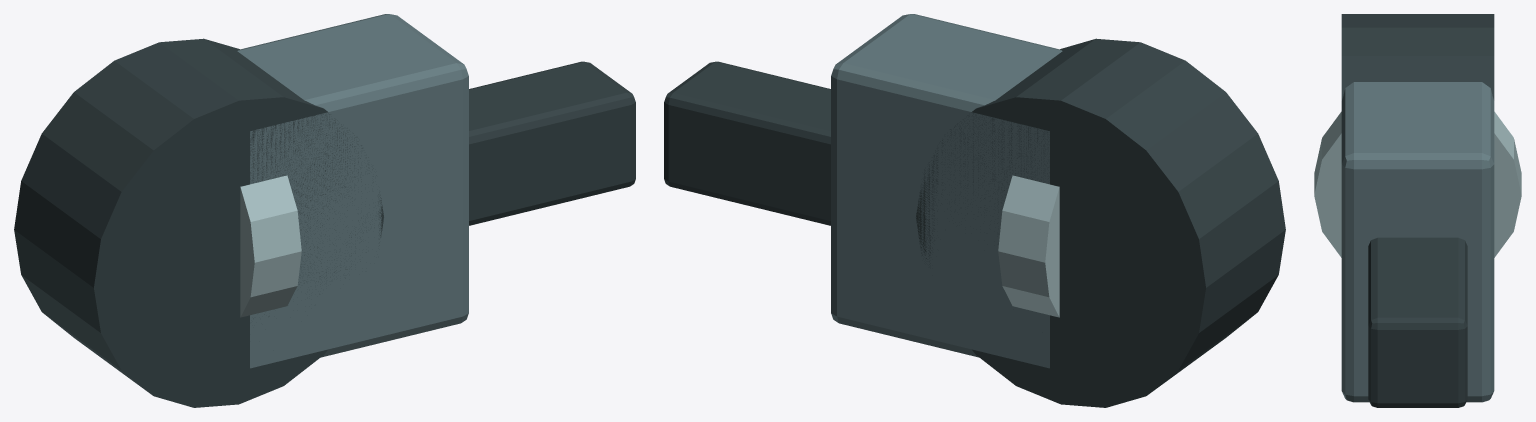
The model's file is turret.glb.
The picture shows the model from 3 angles, left to right: view 1: azimuth 30°, elevation 25°; view 2: azimuth 150°, elevation 25°; view 3: azimuth 270°, elevation 25°; orthographic projection. The views are drawn at different scales.
Visible parts, largest first — view 1: slew_base, shoulder_housing, link_beam, slew_bearing; view 2: slew_base, shoulder_housing, link_beam, slew_bearing; view 3: shoulder_housing, link_beam, slew_base, slew_bearing.
Part boxes in pixels (<box>): slew_base: <box>14,38,383,407</box>; shoulder_housing: <box>237,14,468,368</box>; link_beam: <box>469,61,635,225</box>; slew_bearing: <box>240,175,301,317</box>; slew_base: <box>916,38,1285,407</box>; shoulder_housing: <box>831,14,1062,368</box>; link_beam: <box>664,61,830,225</box>; slew_bearing: <box>998,175,1059,317</box>; shoulder_housing: <box>1341,82,1494,402</box>; link_beam: <box>1368,237,1467,407</box>; slew_base: <box>1341,14,1494,100</box>; slew_bearing: <box>1314,111,1521,257</box>.
Size of the model in its own units: 0.405 by 0.21 by 0.136.
